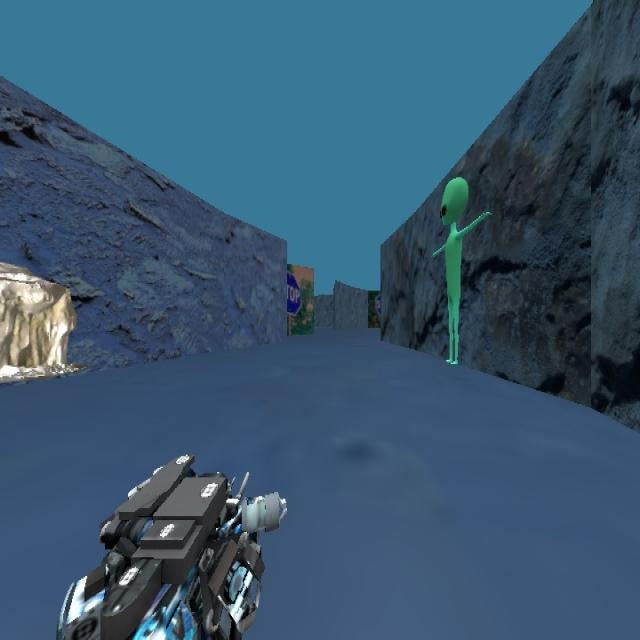Alien: (430, 175, 492, 365)
Ice: (0, 249, 89, 387)
Stop_Sign: (286, 269, 302, 315), (374, 292, 382, 315)
